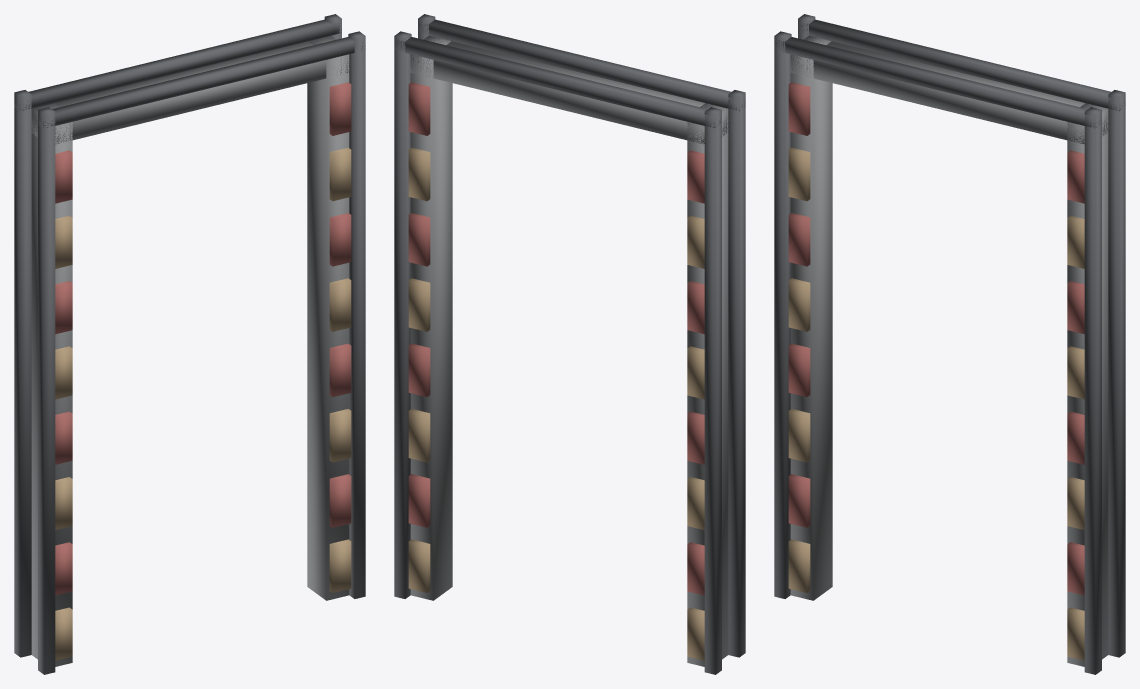
Rendered from doorway_brick_return_w122_h240_d16.glb.
The picture shows the model from 3 angles, left to right: view 1: azimuth 30°, elevation 25°; view 2: azimuth 150°, elevation 25°; view 3: azimuth 330°, elevation 25°; orthographic projection.
Visible parts, largest first — view 1: world; view 2: world; view 3: world.
Part boxes in pixels (<box>): world: <box>14,14,365,674</box>; world: <box>394,14,745,674</box>; world: <box>774,14,1125,674</box>.
Bounding box in the file's own units: 1.55 × 2.58 × 0.2496.
